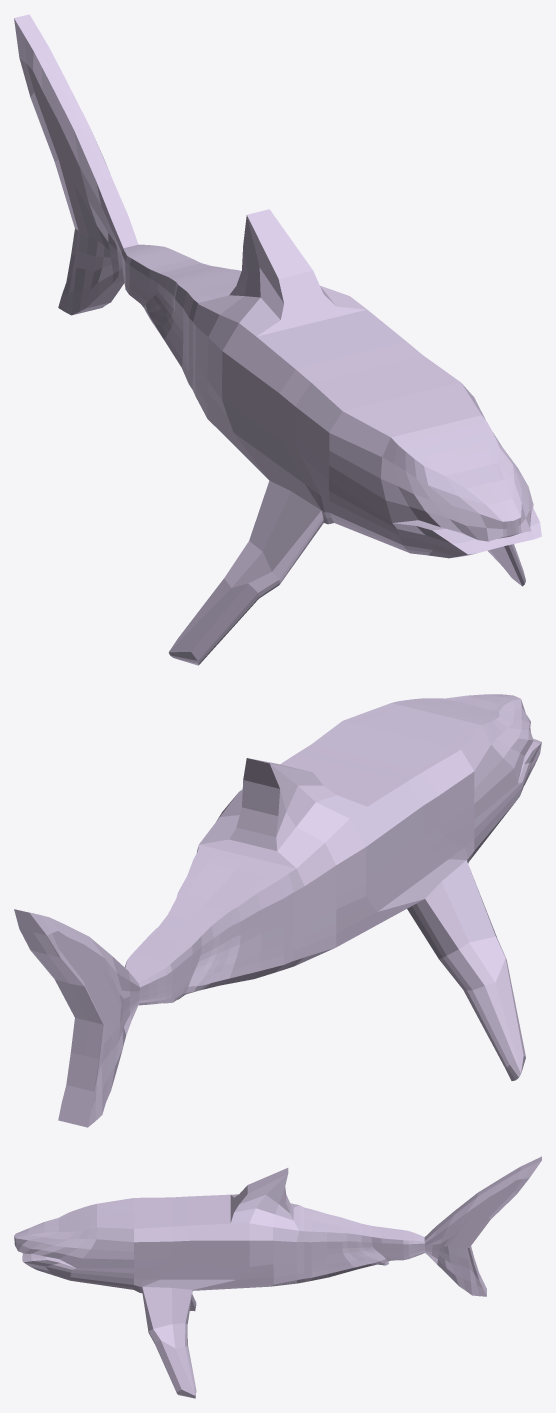
Rendered from shark11 anim to unity 5.fbx.
3 renders of one model, top to bottom at view 1: azimuth 30°, elevation 25°; view 2: azimuth 150°, elevation 25°; view 3: azimuth 270°, elevation 25°, orthographic. The views are drawn at different scales.
Visible parts, largest first — view 1: Shark; view 2: Shark; view 3: Shark.
Part boxes in pixels (x1=…): Shark: x1=14, y1=14, x2=541, y2=665; Shark: x1=14, y1=694, x2=541, y2=1127; Shark: x1=14, y1=1156, x2=541, y2=1398.
Bounding box in the file's own units: 168 × 167 × 406.
